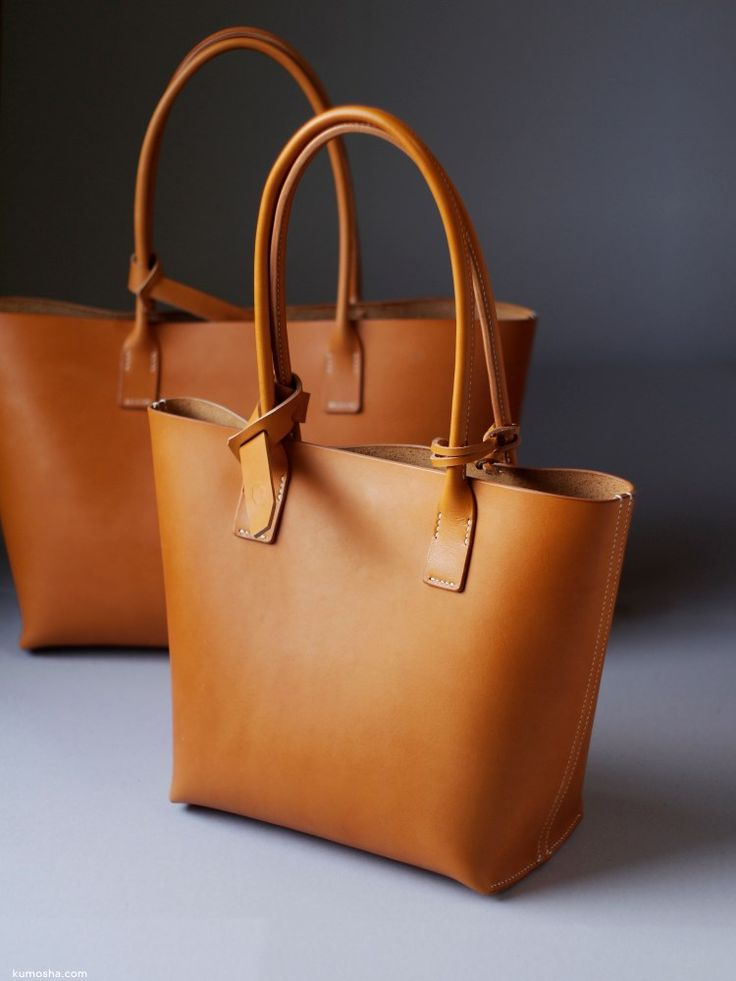cuero: (4, 26, 635, 898)
